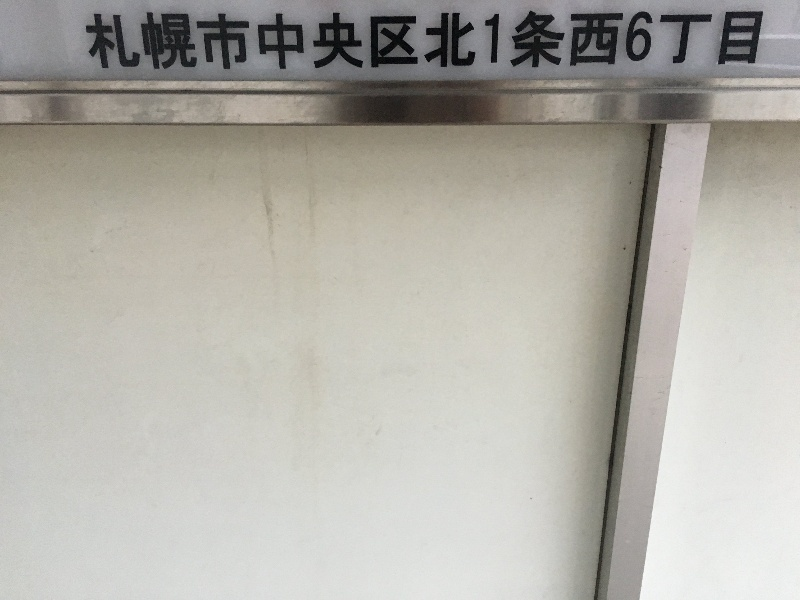text: (97, 8, 112, 72), (113, 8, 128, 72), (129, 8, 144, 72), (145, 8, 160, 72), (161, 8, 176, 72), (177, 8, 192, 72), (193, 8, 208, 72), (209, 8, 224, 72), (225, 8, 240, 72), (241, 8, 256, 72), (257, 8, 272, 72), (273, 8, 288, 72), (289, 8, 304, 72), (305, 8, 320, 72), (321, 8, 336, 72), (337, 8, 352, 72), (353, 8, 368, 72), (369, 8, 384, 72), (385, 8, 400, 72), (401, 8, 416, 72), (417, 8, 432, 72), (433, 8, 448, 72), (449, 8, 464, 72), (465, 8, 480, 72), (481, 8, 496, 72), (497, 8, 512, 72), (513, 8, 528, 72), (529, 8, 544, 72), (545, 8, 560, 72), (561, 8, 576, 72), (577, 8, 592, 72), (593, 8, 608, 72), (609, 8, 624, 72), (625, 8, 640, 72), (641, 8, 656, 72), (657, 8, 672, 72), (673, 8, 688, 72), (689, 8, 704, 72), (705, 8, 720, 72), (721, 8, 736, 72), (737, 8, 752, 72), (753, 8, 768, 72), (85, 8, 96, 72), (769, 8, 771, 72)
